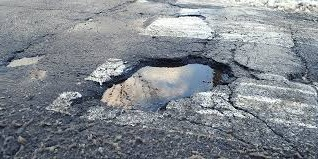pothole: (92, 55, 226, 117), (5, 51, 45, 71)
